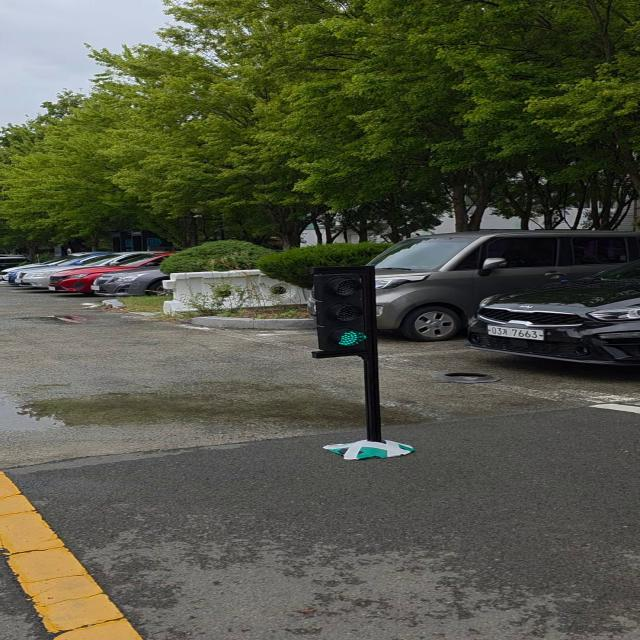green: (311, 264, 379, 358)
